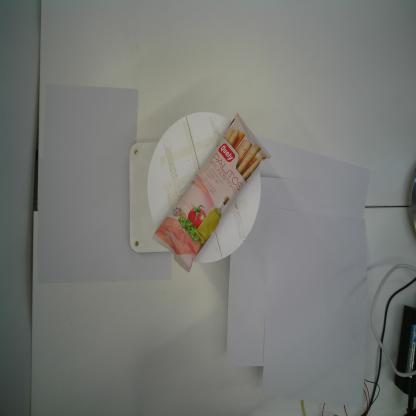Dessert: (150, 112, 272, 274)
